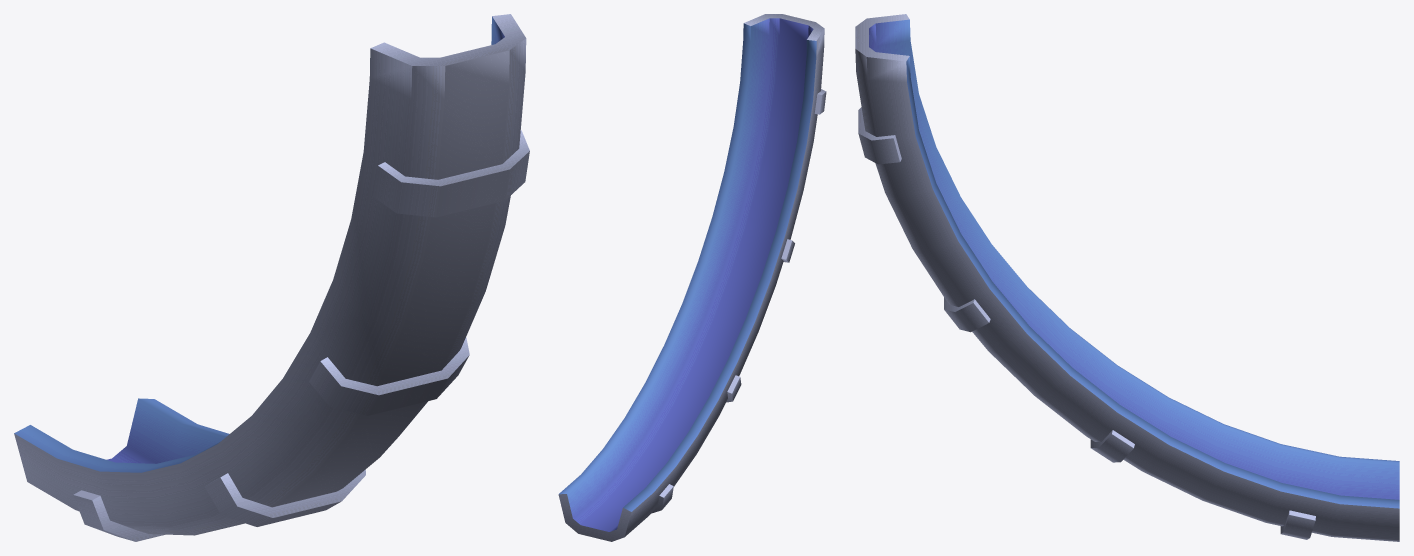
The model's file is coaster-flume-straight-bend-large.glb.
3 views of the same model, side by side, from view 1: azimuth 30°, elevation 25°; view 2: azimuth 150°, elevation 25°; view 3: azimuth 270°, elevation 25° (orthographic). The views are drawn at different scales.
Visible parts, largest first — view 1: coaster-flume-straight-bend-large; view 2: coaster-flume-straight-bend-large; view 3: coaster-flume-straight-bend-large.
Boxes of the visible parts, bbox=[...] form: coaster-flume-straight-bend-large: bbox=[14, 14, 529, 541]; coaster-flume-straight-bend-large: bbox=[558, 14, 826, 541]; coaster-flume-straight-bend-large: bbox=[855, 14, 1399, 541].
Size of the model in its own units: 2.53 by 12 by 12.
1 material, 1 textured.
